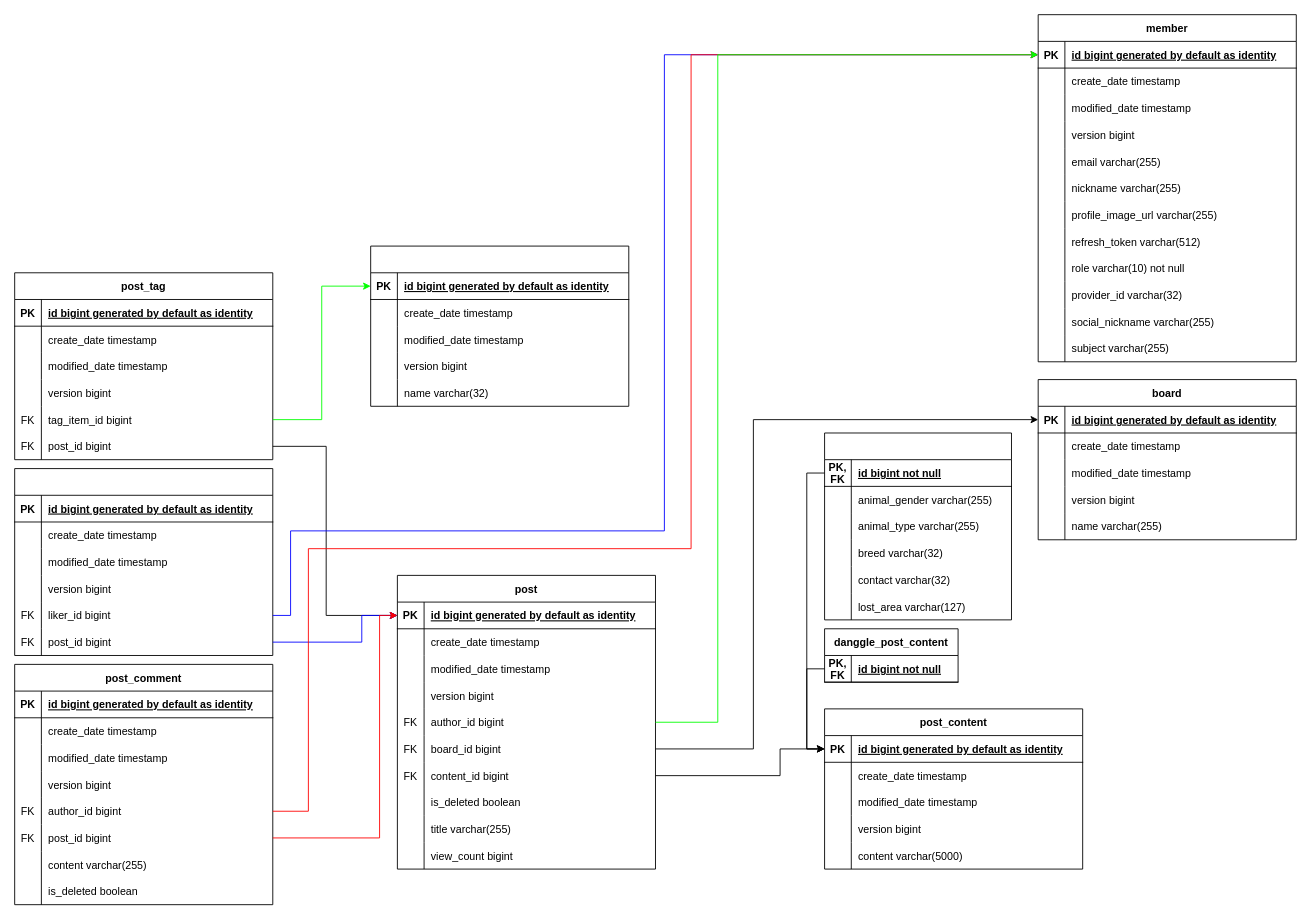
Some shapes in this 1311 by 919 pixel diagram are drawn without their labels. Each missing label, with the box of its shape:
find_post_content: (824, 432, 1011, 620)
post_like: (14, 468, 273, 655)
tag_item: (370, 245, 629, 406)
